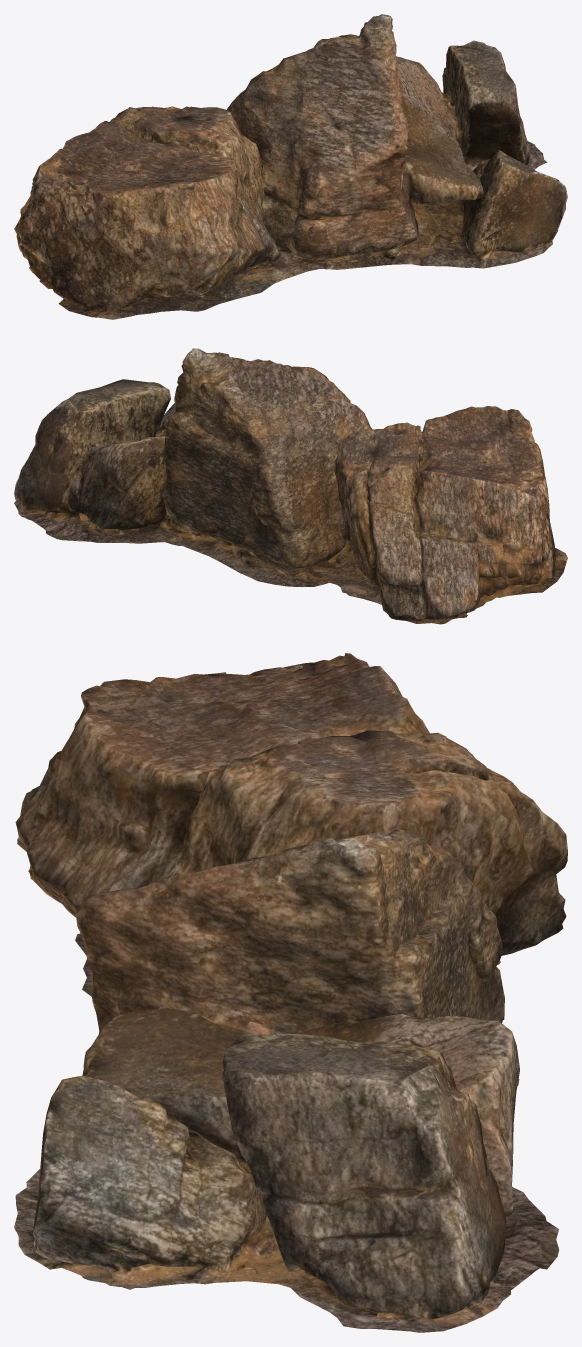
The model's file is namaqualand_boulder_02.glb.
3 views of the same model, one above another, from view 1: azimuth 30°, elevation 25°; view 2: azimuth 150°, elevation 25°; view 3: azimuth 270°, elevation 25° (orthographic). The views are drawn at different scales.
Visible parts, largest first — view 1: boulder_02; view 2: boulder_02; view 3: boulder_02.
Boxes of the visible parts, <box> form: boulder_02: <box>14,14,567,319</box>; boulder_02: <box>14,348,567,624</box>; boulder_02: <box>14,653,567,1332</box>.
Bounding box in the file's own units: 2.53 × 0.8804 × 1.23.
Materials: 1 (1 with a texture image).
